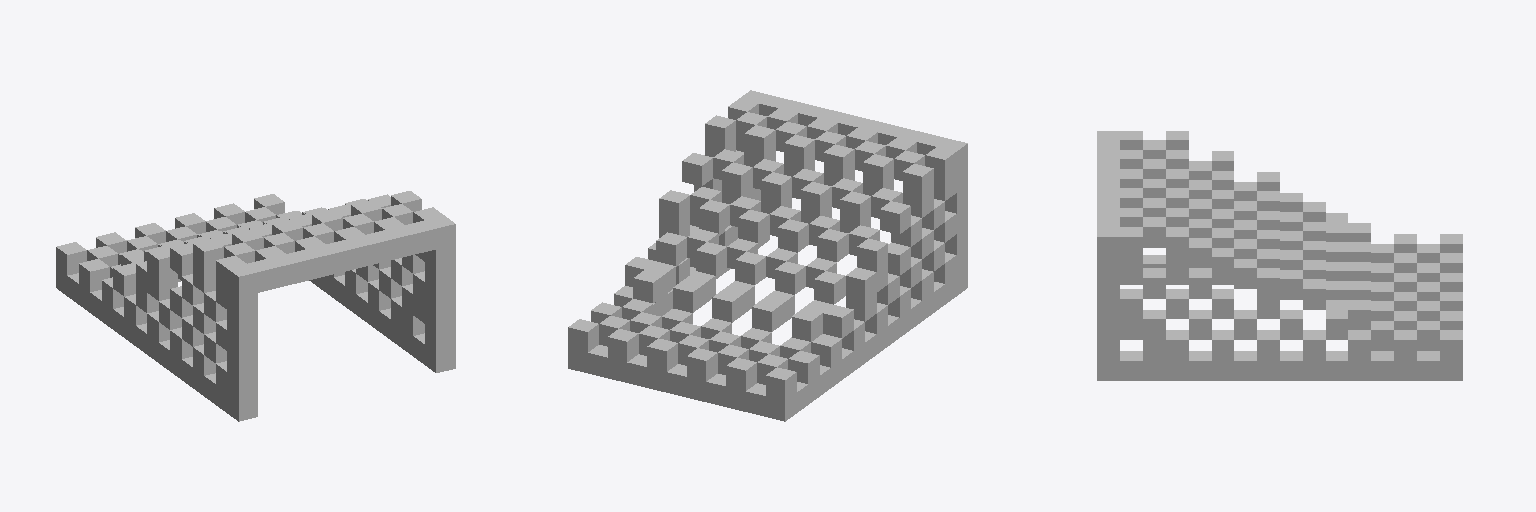
File: Small net.obj
3 renders of one model, left to right at view 1: azimuth 30°, elevation 25°; view 2: azimuth 150°, elevation 25°; view 3: azimuth 270°, elevation 25°, orthographic.
Size of the model in its own units: 11 by 7 by 16.